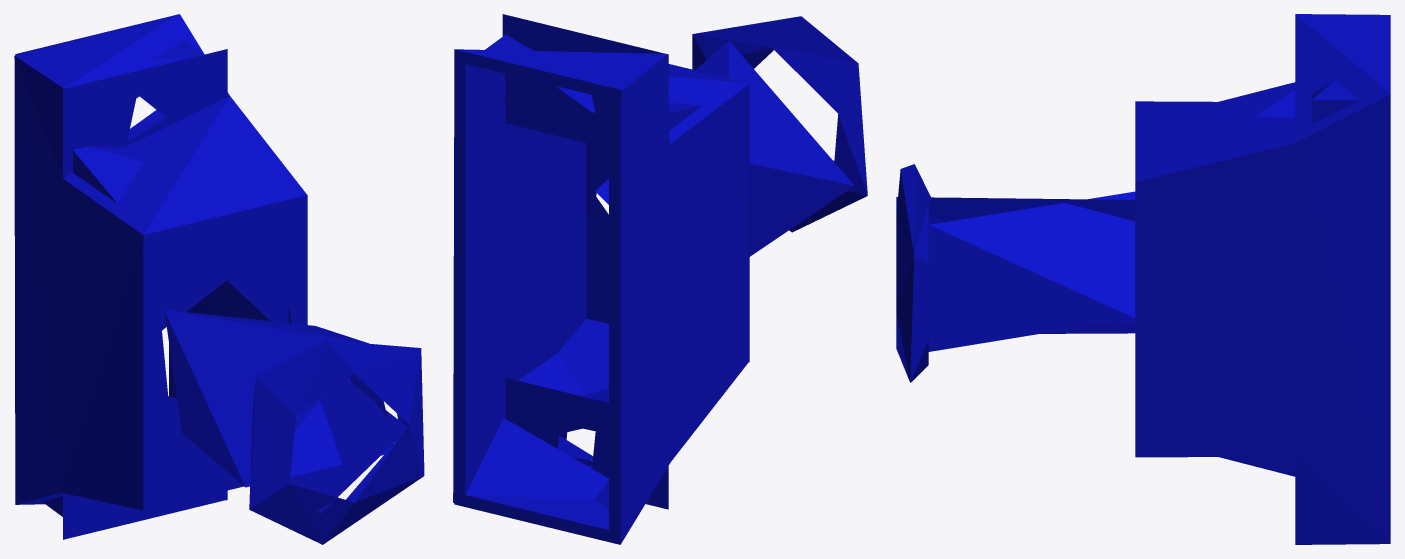
Rendered from front_left_steer_075.dae.
3 renders of one model, left to right at view 1: azimuth 30°, elevation 25°; view 2: azimuth 150°, elevation 25°; view 3: azimuth 270°, elevation 25°, orthographic.
Visible parts, largest first — view 1: node; view 2: node; view 3: node.
Part boxes in pixels (x1,y1,x2,y2): node: (14, 14, 424, 544); node: (453, 14, 867, 544); node: (896, 14, 1390, 544).
Bounding box in the file's own units: 0.0096 × 0.0231 × 0.0233.
